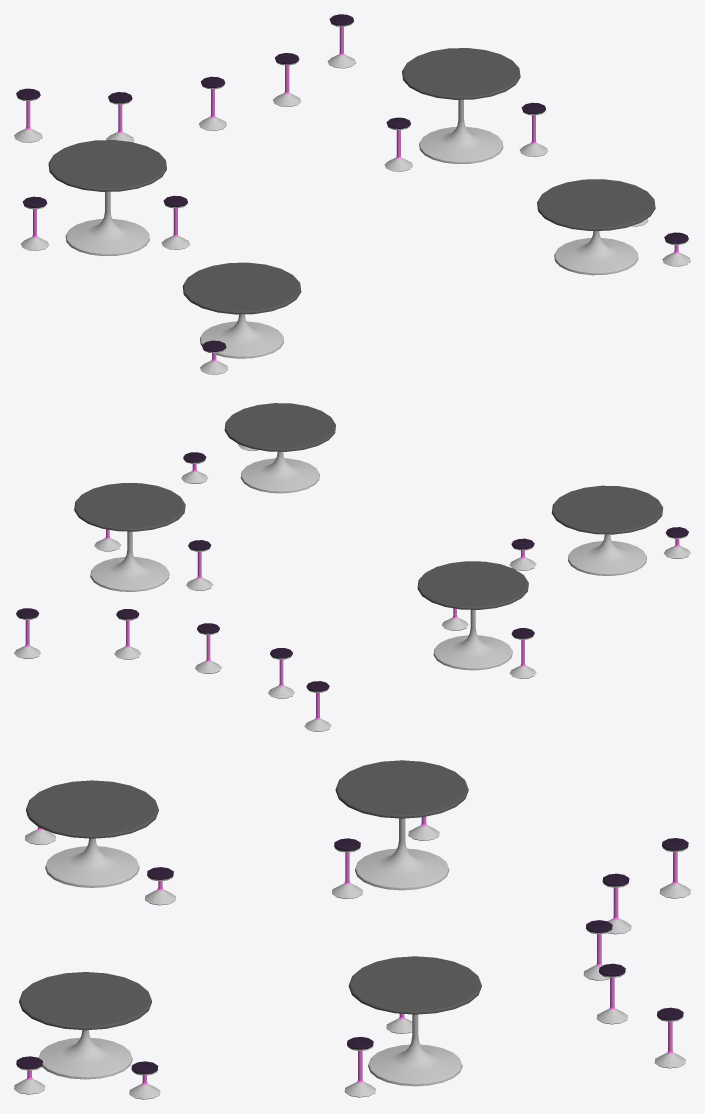
Rendered from Bar_Dressing.fbx.
3 renders of one model, top to bottom at view 1: azimuth 30°, elevation 25°; view 2: azimuth 150°, elevation 25°; view 3: azimuth 270°, elevation 25°, orthographic. The views are drawn at different scales.
Visible parts, largest first — view 1: Bar_Dressing; view 2: Bar_Dressing; view 3: Bar_Dressing.
Boxes of the visible parts, bbox=[...] form: Bar_Dressing: bbox=[14, 14, 690, 374]; Bar_Dressing: bbox=[14, 403, 690, 731]; Bar_Dressing: bbox=[14, 760, 690, 1099].
Size of the model in its own units: 732 by 104 by 769.
